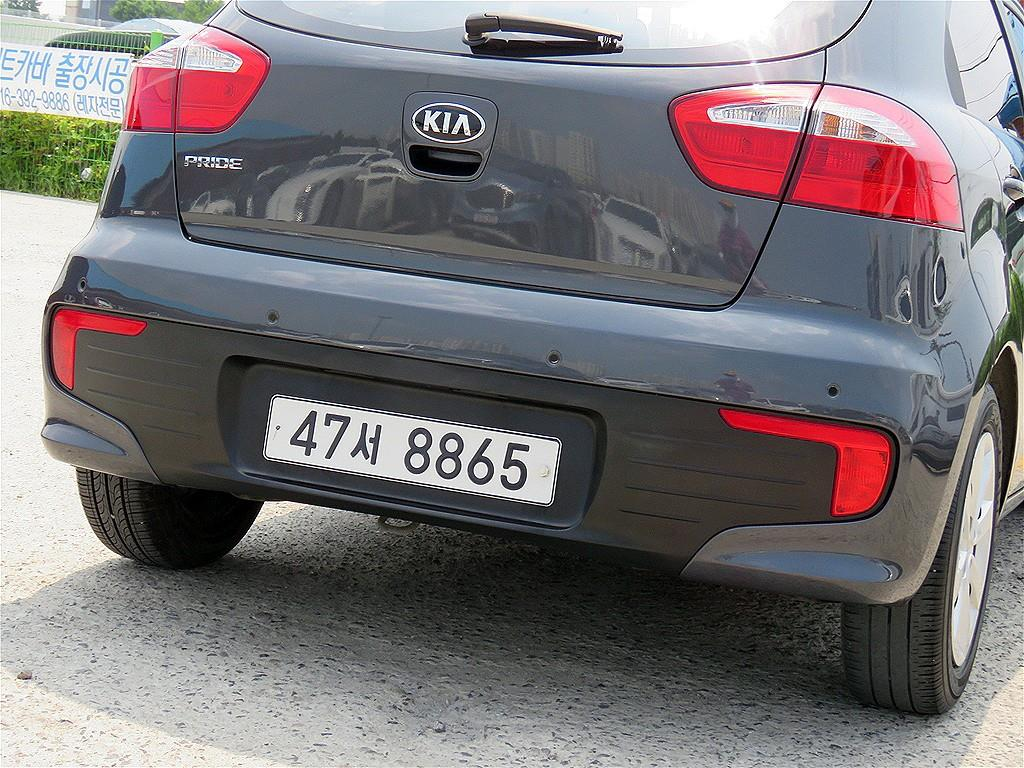plate: (263, 397, 560, 505)
